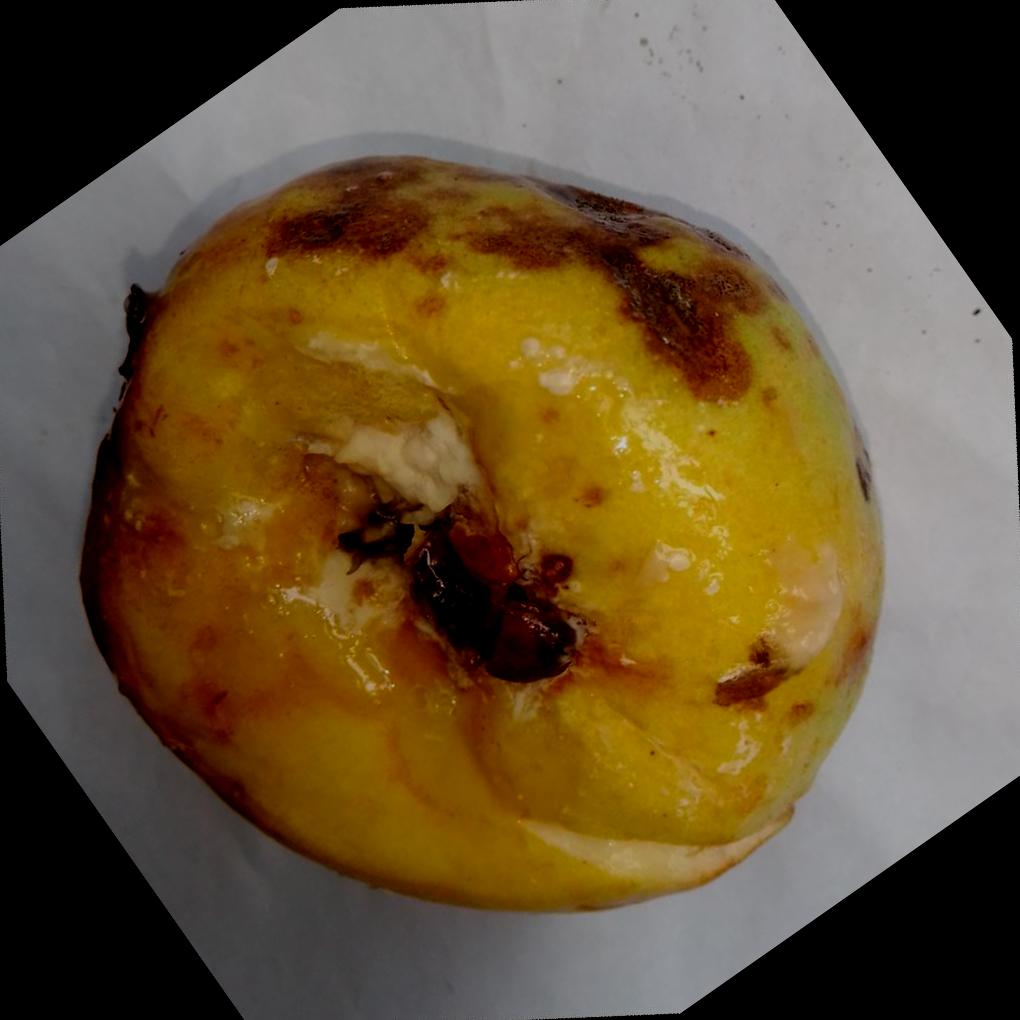FreshOrange: (80, 153, 889, 913)
